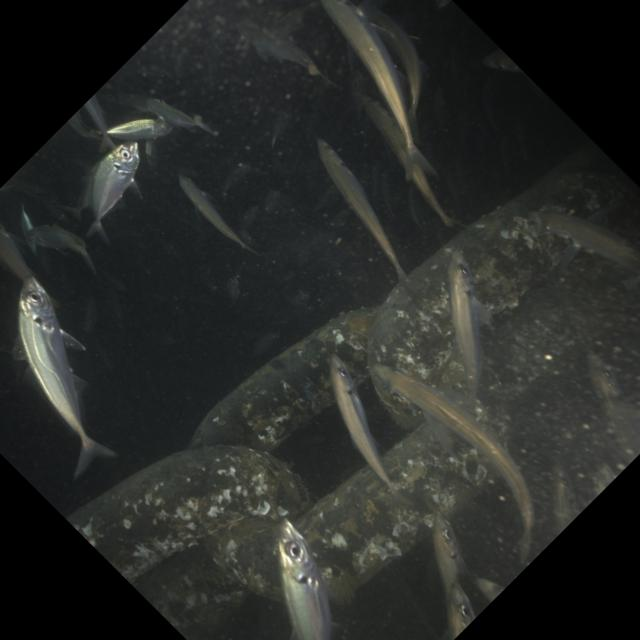ChainLink: (367, 170, 640, 412), (67, 444, 307, 631), (294, 425, 493, 597), (192, 308, 376, 453), (219, 530, 278, 595)
